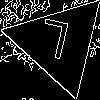L: (34, 18, 72, 70)
